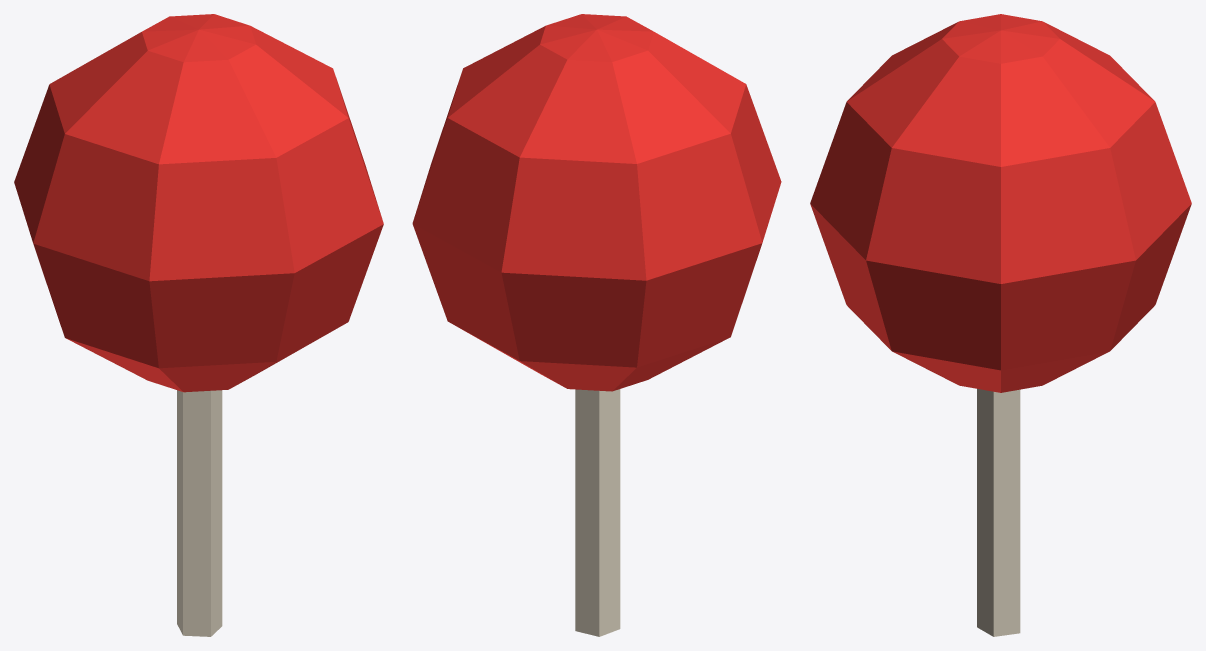
Rendered from land_tree_toy_lollipop_red.glb.
3 views of the same model, side by side, from view 1: azimuth 30°, elevation 25°; view 2: azimuth 150°, elevation 25°; view 3: azimuth 270°, elevation 25° (orthographic).
Size of the model in its own units: 4 by 6.9 by 4.
